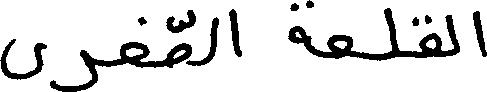X: (0, 34, 44, 84), (53, 45, 95, 91), (123, 12, 147, 72), (168, 5, 188, 72), (291, 0, 306, 53), (423, 10, 437, 62), (329, 30, 350, 63), (387, 3, 397, 63), (476, 6, 486, 61), (448, 10, 458, 60), (232, 4, 240, 61), (211, 12, 216, 64)
